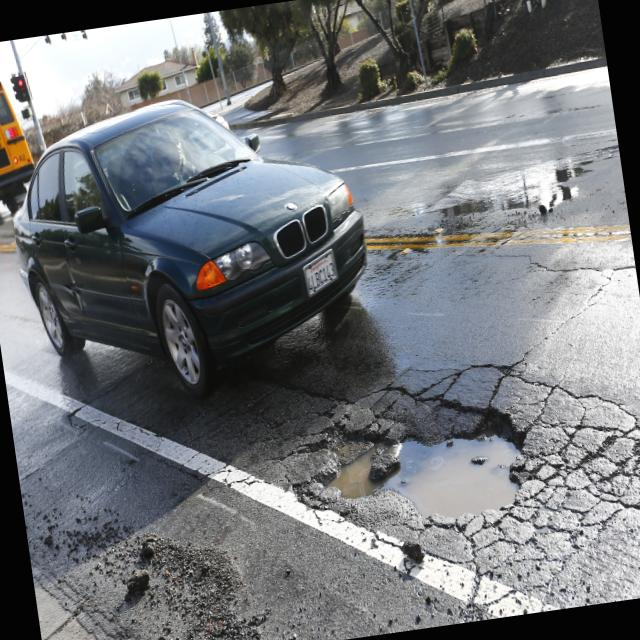bad-road: (308, 402, 540, 546), (524, 360, 640, 544)
